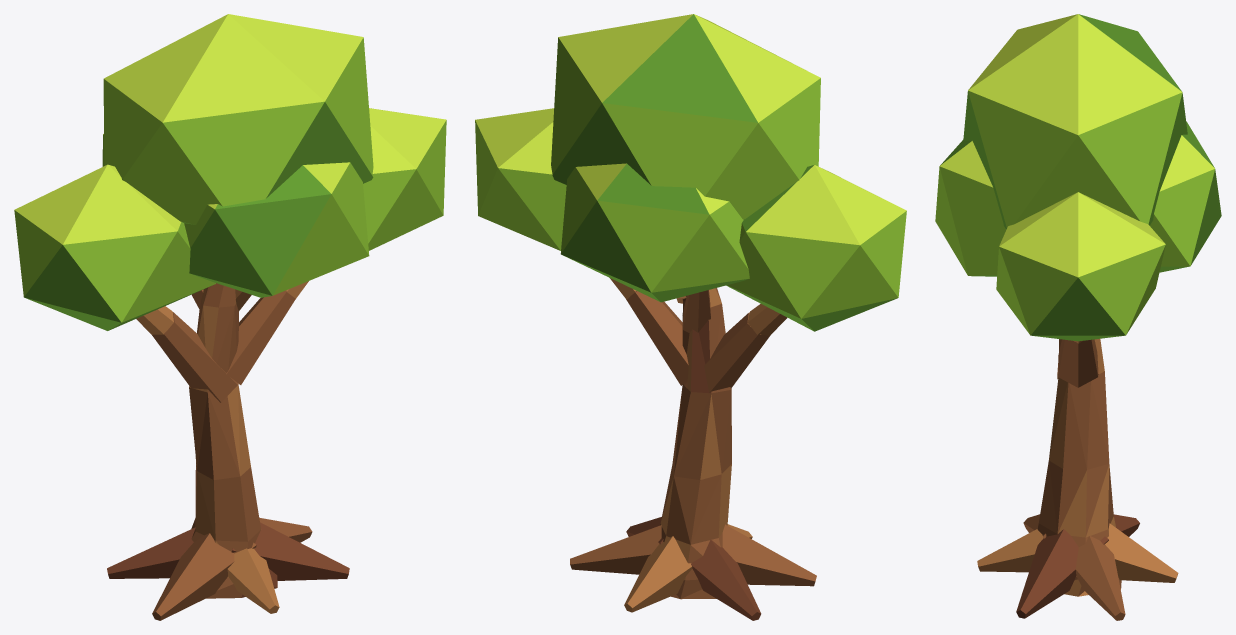
Rendered from fantasy-faceted-tree-blockout.glb.
3 views of the same model, side by side, from view 1: azimuth 30°, elevation 25°; view 2: azimuth 150°, elevation 25°; view 3: azimuth 270°, elevation 25° (orthographic).
Visible parts, largest first — view 1: FantasyFacetedTreeBlockout; view 2: FantasyFacetedTreeBlockout; view 3: FantasyFacetedTreeBlockout.
Part boxes in pixels (x1=…): FantasyFacetedTreeBlockout: x1=14, y1=14, x2=446, y2=620; FantasyFacetedTreeBlockout: x1=475, y1=14, x2=906, y2=620; FantasyFacetedTreeBlockout: x1=935, y1=14, x2=1221, y2=620.
Bounding box in the file's own units: 4.63 × 5.92 × 2.74.
